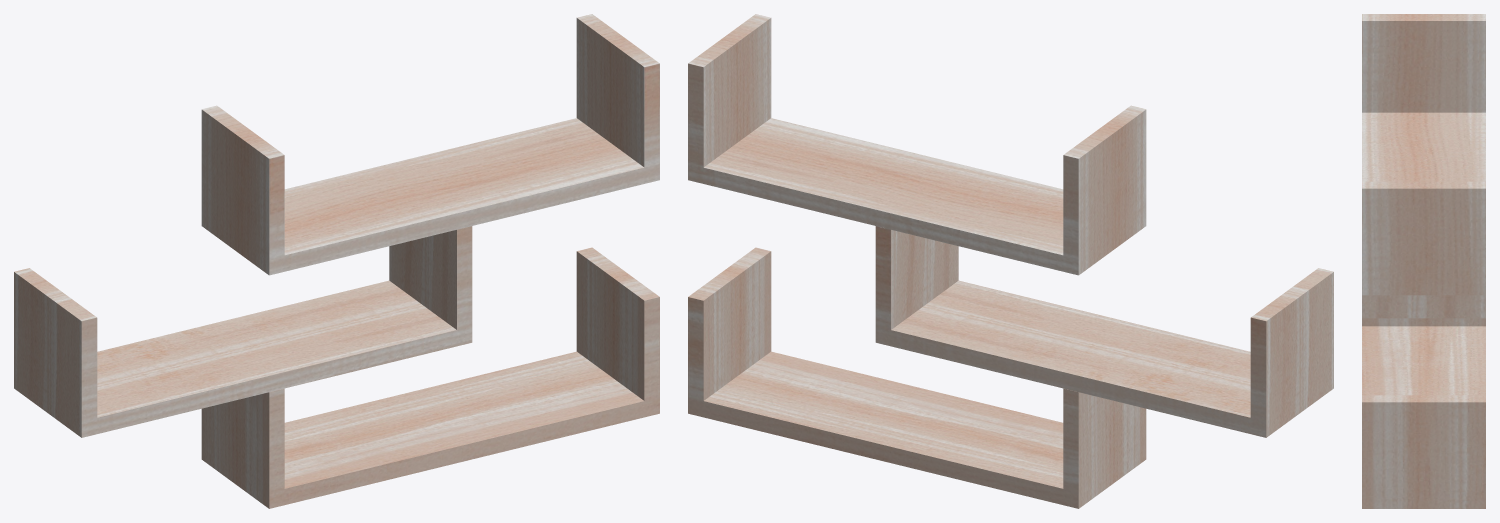
Rendered from wall_shelf.glb.
3 renders of one model, left to right at view 1: azimuth 30°, elevation 25°; view 2: azimuth 150°, elevation 25°; view 3: azimuth 270°, elevation 25°, orthographic. The views are drawn at different scales.
Parts seen in each view (by area): view 1: eEtage2, eEtage, eEtage1; view 2: eEtage2, eEtage, eEtage1; view 3: eEtage2, eEtage, eEtage1.
Part boxes in pixels (<box>): eEtage2: <box>201,14,659,275</box>; eEtage: <box>201,247,659,508</box>; eEtage1: <box>14,226,472,437</box>; eEtage2: <box>688,14,1146,275</box>; eEtage: <box>688,247,1146,508</box>; eEtage1: <box>875,226,1333,437</box>; eEtage2: <box>1362,14,1485,295</box>; eEtage: <box>1362,318,1485,508</box>; eEtage1: <box>1362,295,1485,318</box>.
Bounding box in the file's own units: 0.074 × 0.0428 × 0.015.
1 material, 1 textured.
